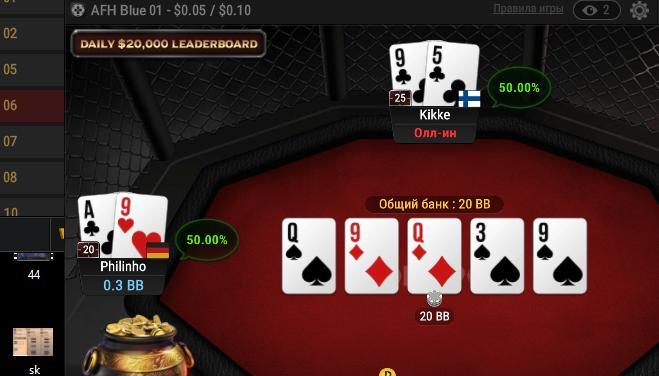3s: (471, 218, 524, 293)
5c: (426, 39, 480, 106)
9c: (388, 42, 426, 106)
9d: (346, 218, 400, 294)
9h: (115, 190, 168, 258)
9s: (534, 218, 587, 294)
Ac: (76, 190, 114, 258)
Qd: (408, 218, 461, 294)
Qs: (282, 219, 336, 293)
